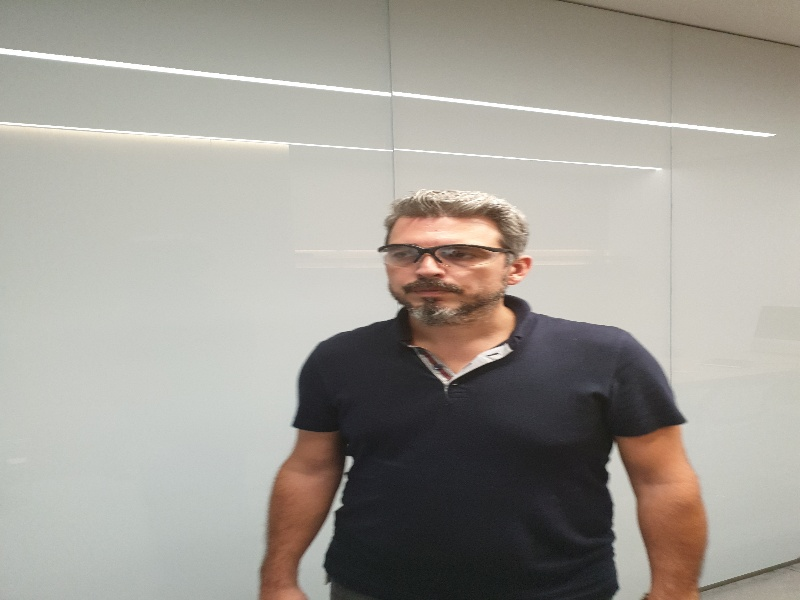Gozluk: (377, 243, 510, 268)
